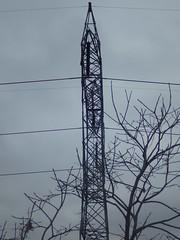power_tower: (72, 0, 110, 240)
